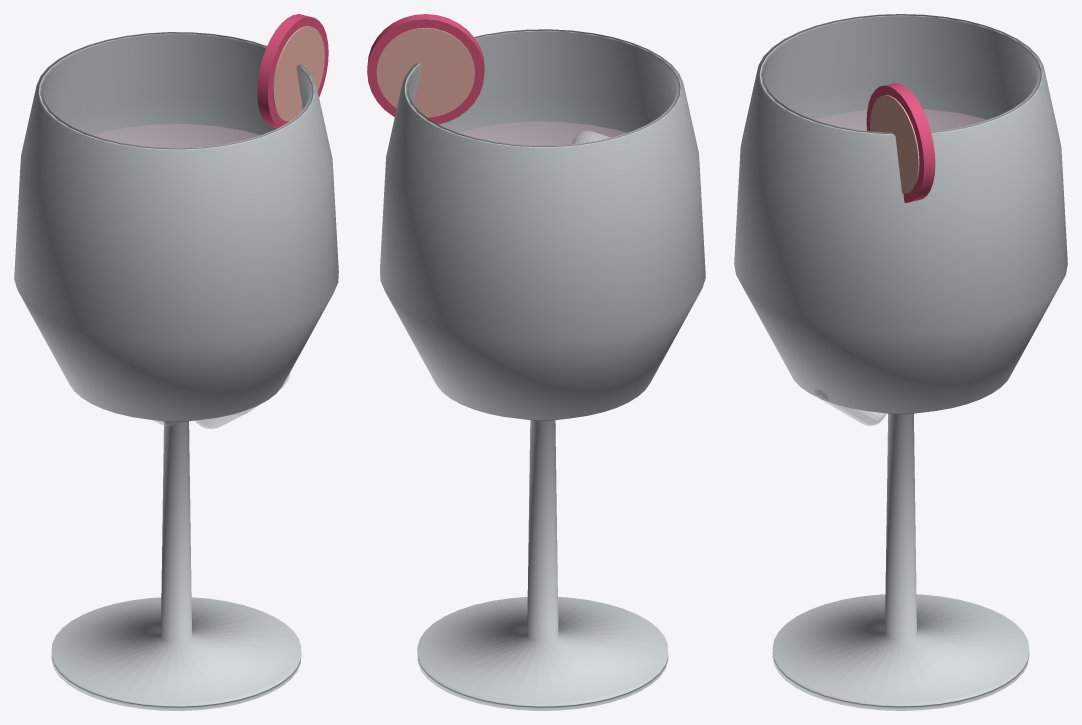
Rendered from cocktail-ngricca-house-gin.glb.
3 renders of one model, left to right at view 1: azimuth 30°, elevation 25°; view 2: azimuth 150°, elevation 25°; view 3: azimuth 270°, elevation 25°, orthographic. The views are drawn at different scales.
Size of the model in its own units: 0.1124 by 0.2154 by 0.104.
